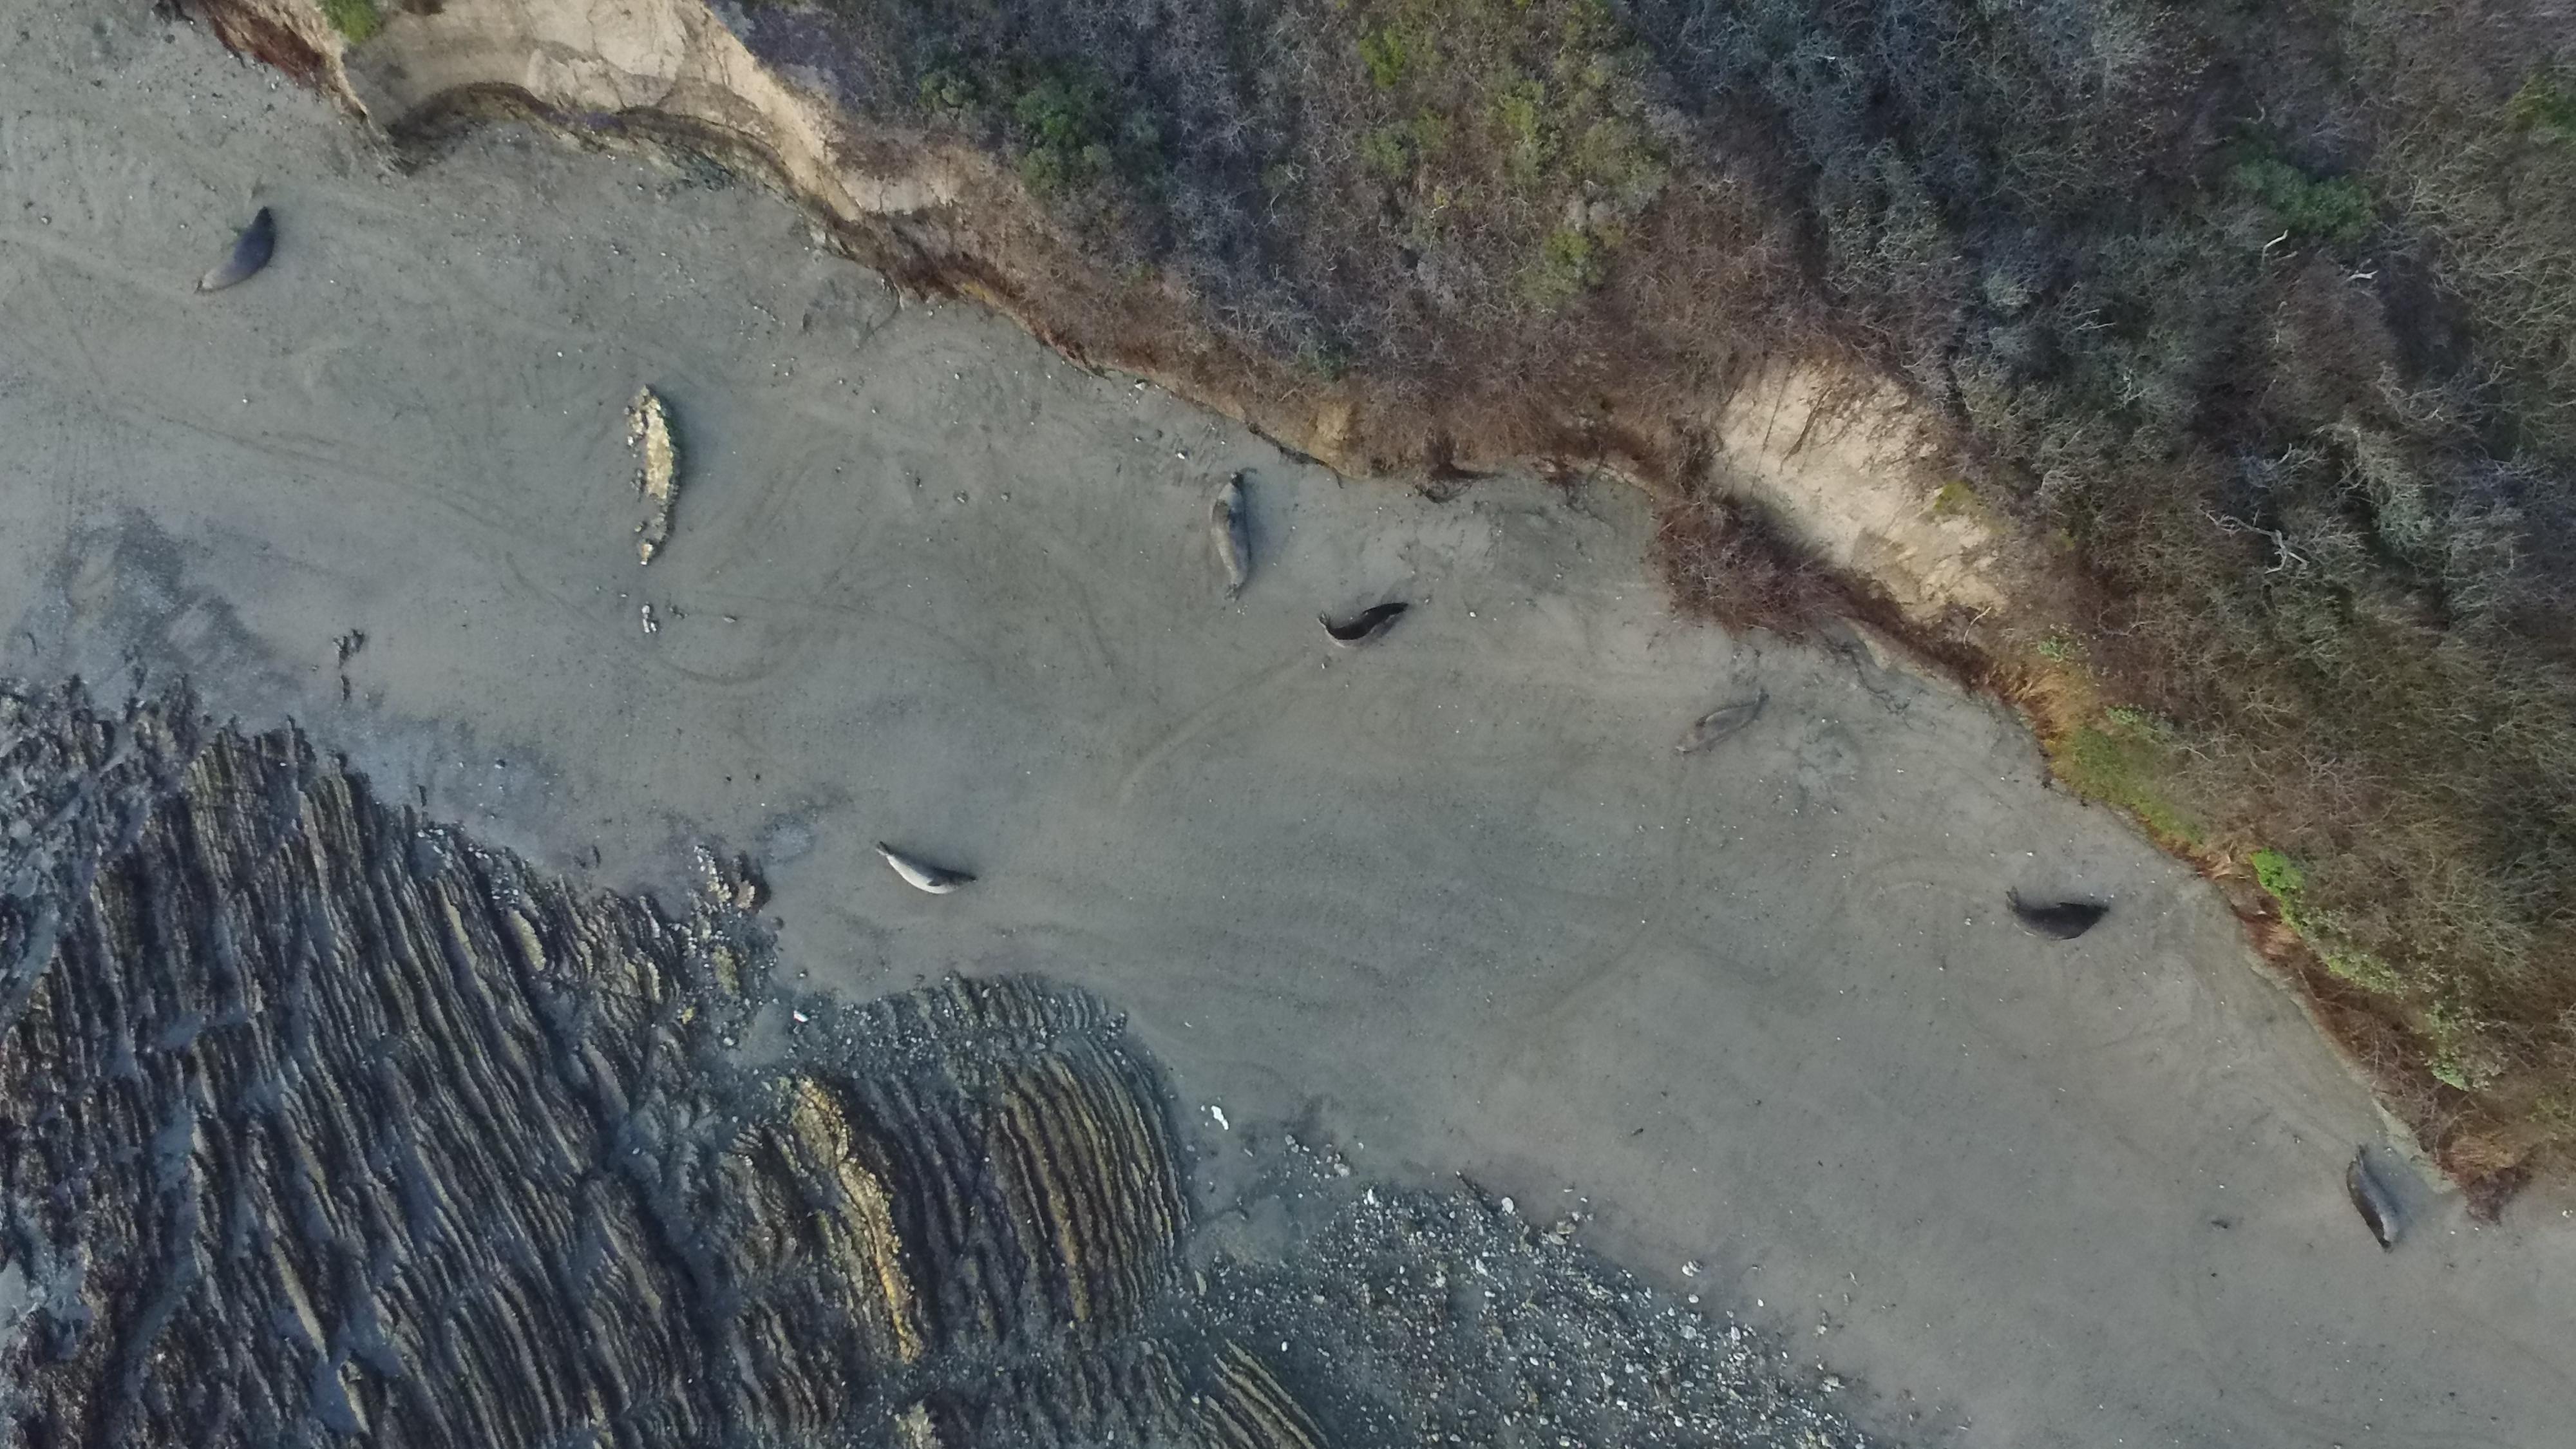adult male: (193, 205, 278, 301), (1214, 472, 1254, 596)
male juvenile / female juvenile / adult female: (878, 844, 982, 901), (2346, 1148, 2399, 1258), (1672, 694, 1764, 752), (2008, 897, 2112, 943), (1316, 609, 1412, 655)
